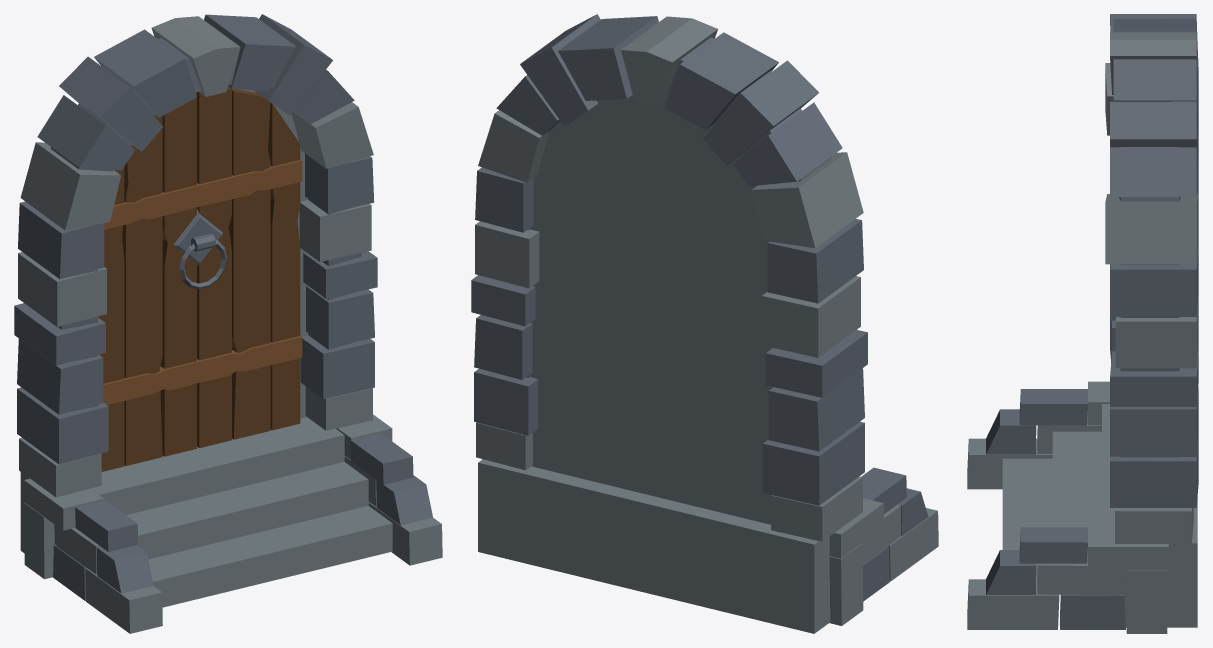
The model's file is quaternius-medieval-village-door-round.glb.
3 views of the same model, side by side, from view 1: azimuth 30°, elevation 25°; view 2: azimuth 150°, elevation 25°; view 3: azimuth 270°, elevation 25° (orthographic). The views are drawn at different scales.
Visible parts, largest first — view 1: Door_Round; view 2: Door_Round; view 3: Door_Round.
Part boxes in pixels (x1,y1,x2,y2): Door_Round: [14, 14, 442, 633]; Door_Round: [471, 14, 938, 633]; Door_Round: [967, 14, 1198, 633].
Bounding box in the file's own units: 0.5014 × 0.7226 × 0.2964.
